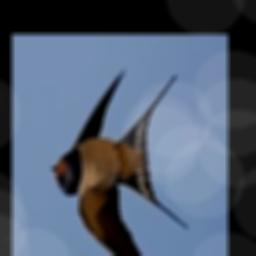Swallow: (52, 70, 188, 256)
